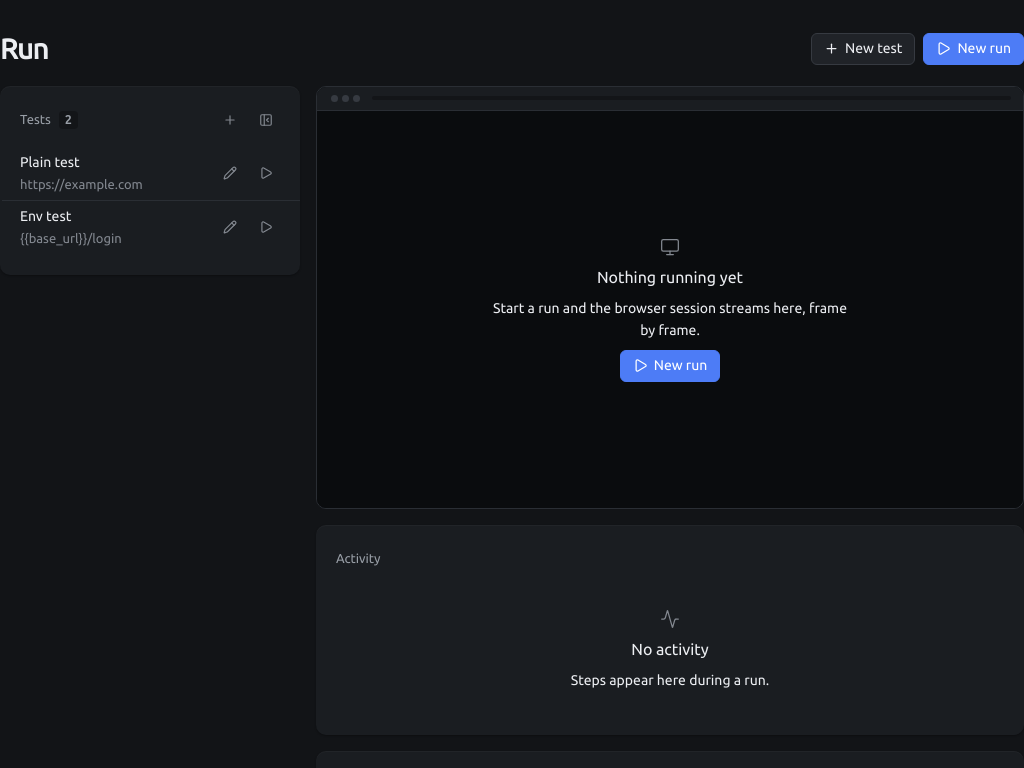
VariablesEditor secret flag (US-035, amended by US-064) › masks the value when a variable is marked secret, and keeps it
The image size is (1024, 768).
Click the 2nd button named "Edit".
click(230, 227)  # box [216, 213, 244, 241]
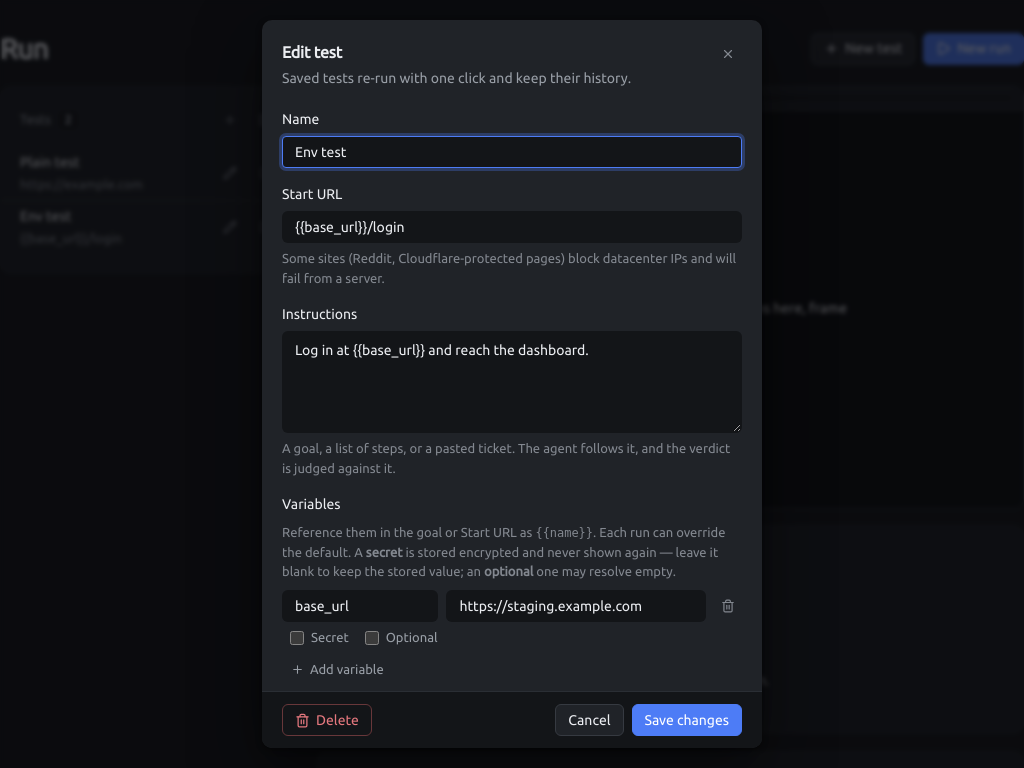
Click the checkbox labelled "Secret".
click(297, 638)  # box [290, 631, 304, 645]
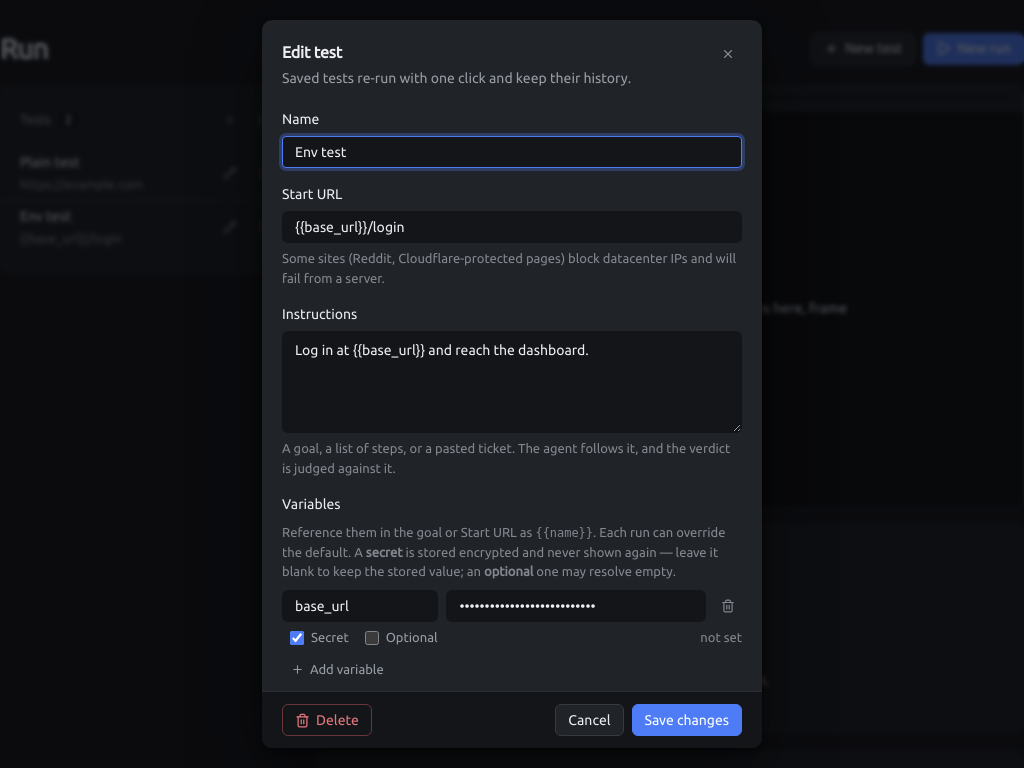
Result: the password field named "Variable 1 secret value" holds "https://staging.example.com" at [446, 590, 706, 622]
Result: the text "not set" is shown at [700, 628, 742, 648]
